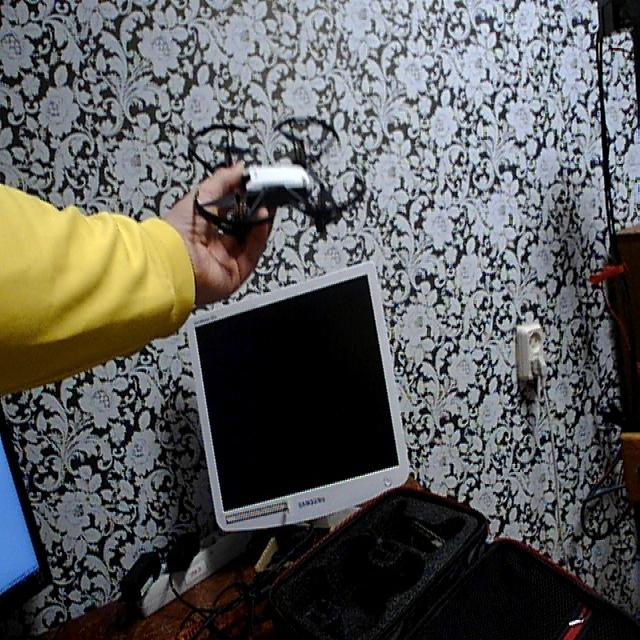drone: (172, 96, 368, 250)
